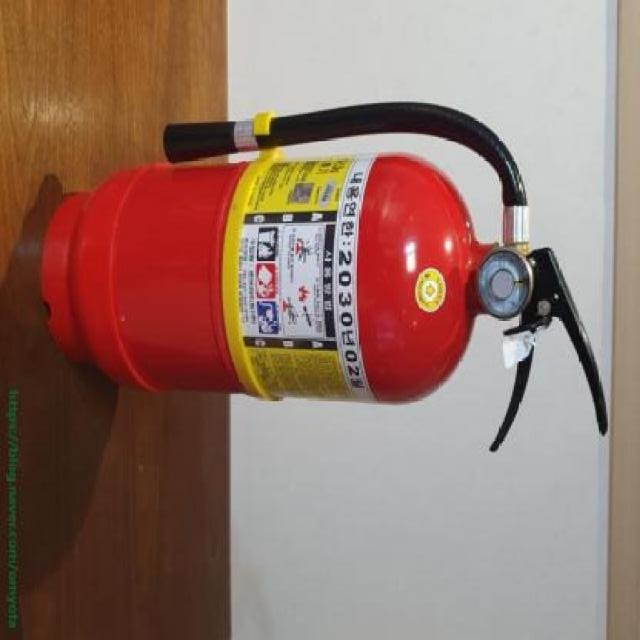fire extinguisher: (41, 102, 607, 453)
